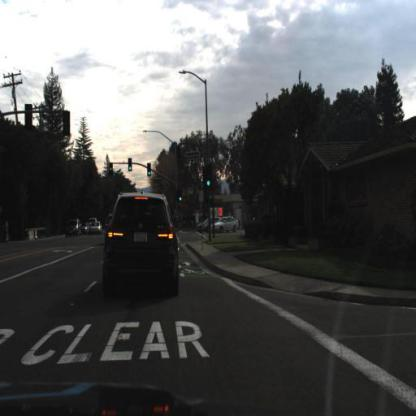car: (103, 190, 181, 295), (211, 215, 242, 237), (66, 218, 82, 239), (89, 220, 102, 236)
trafficLight: (109, 163, 115, 179)
trafficLight-Green: (205, 169, 214, 193), (128, 155, 136, 176), (146, 161, 153, 182), (177, 187, 184, 208), (128, 159, 133, 172), (148, 164, 153, 177)
